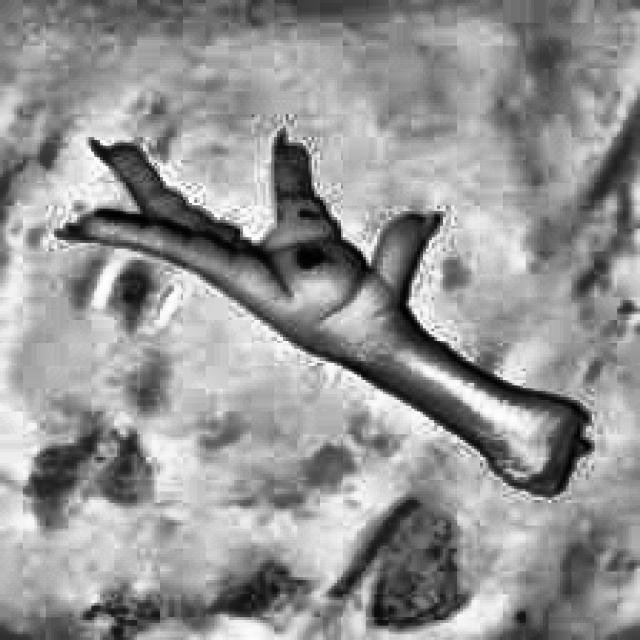Bumble foot: (286, 228, 338, 286)
